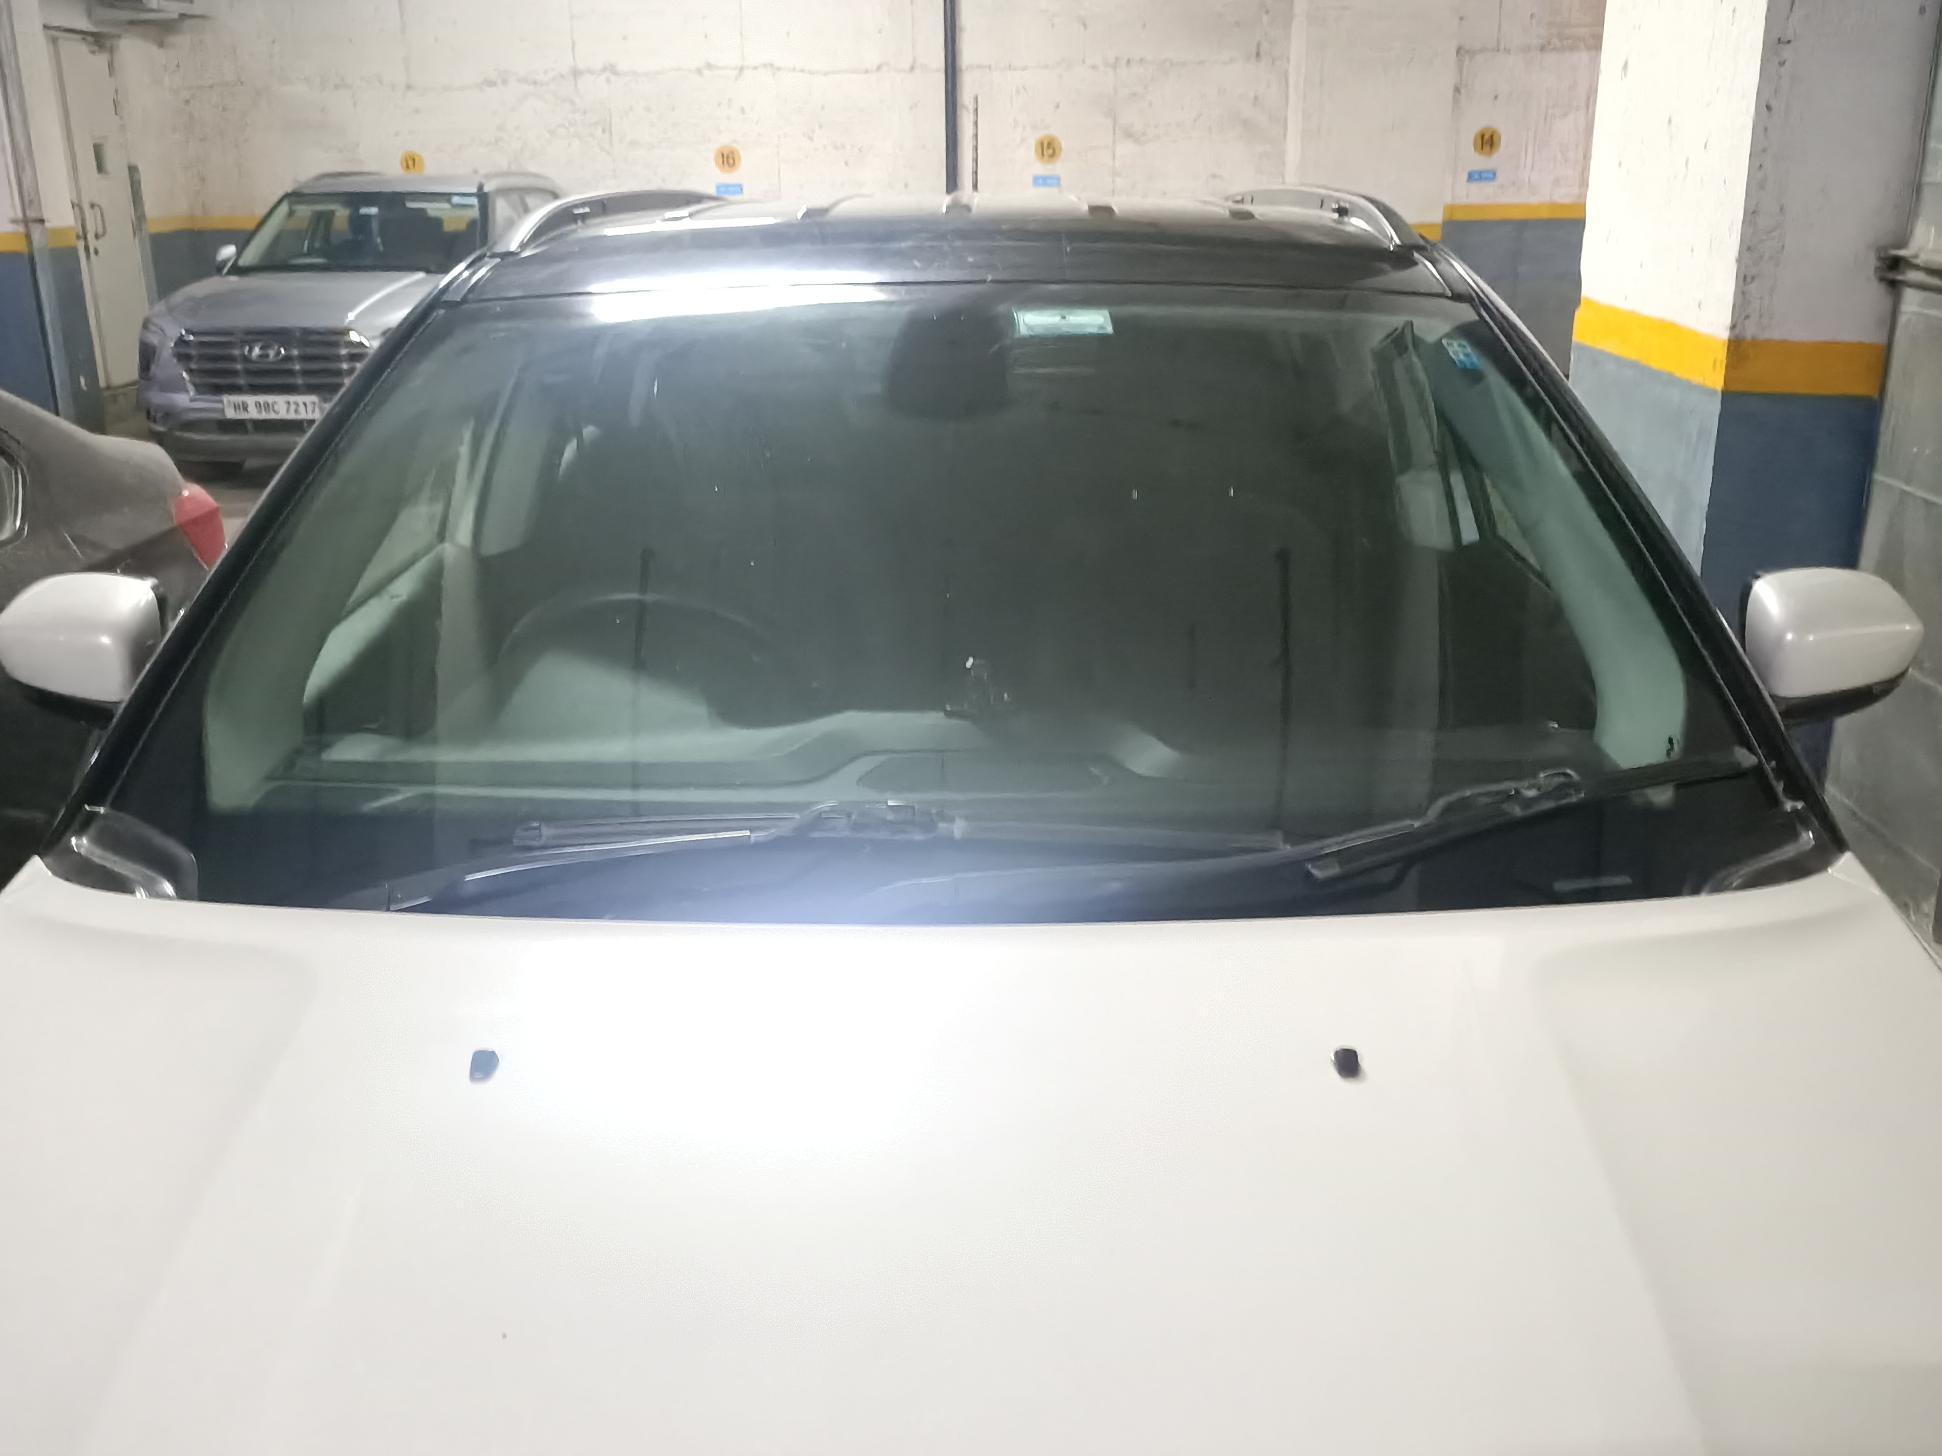FastTag: (997, 284, 1147, 372)
